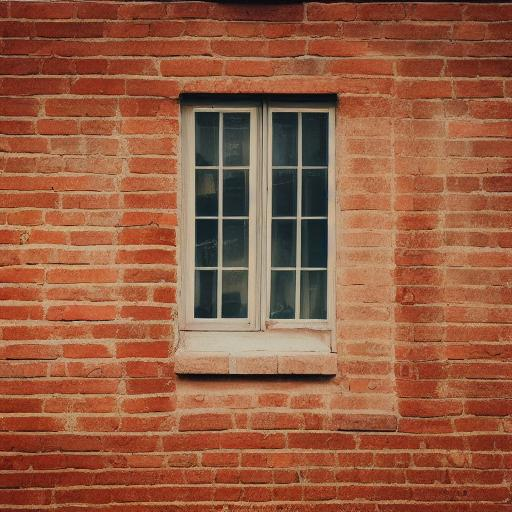Window: (169, 87, 342, 379)
